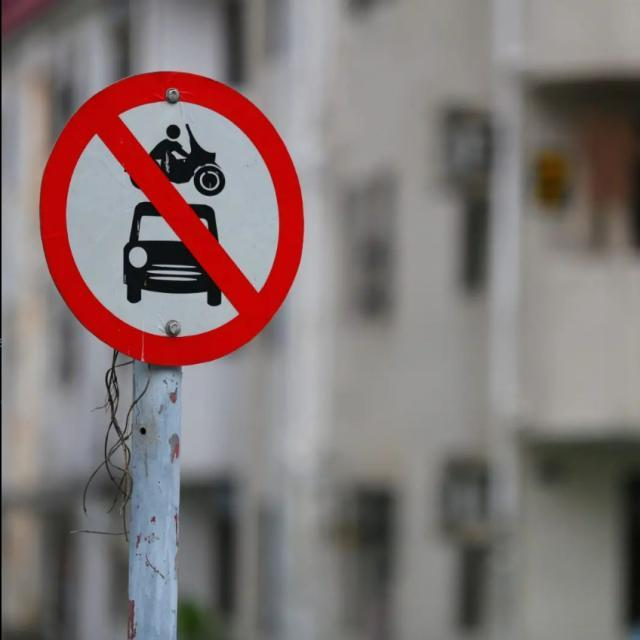all motor vehicle prohibited: (37, 64, 313, 367)
